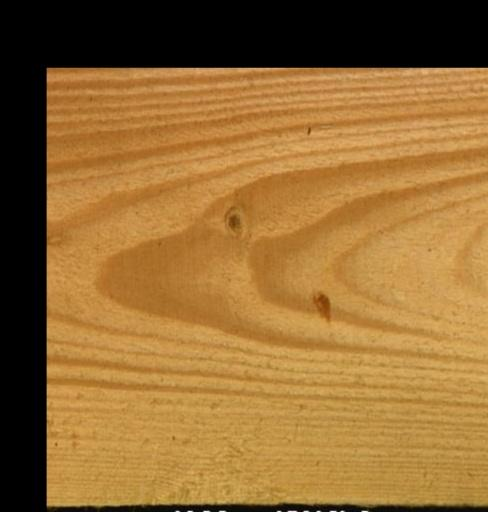sound_knot: (218, 204, 248, 241)
